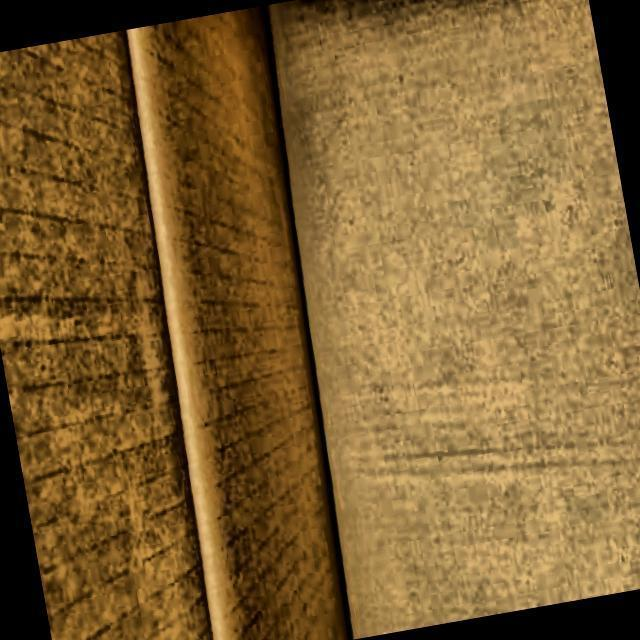cardboard: (237, 0, 640, 640), (0, 4, 376, 640)
